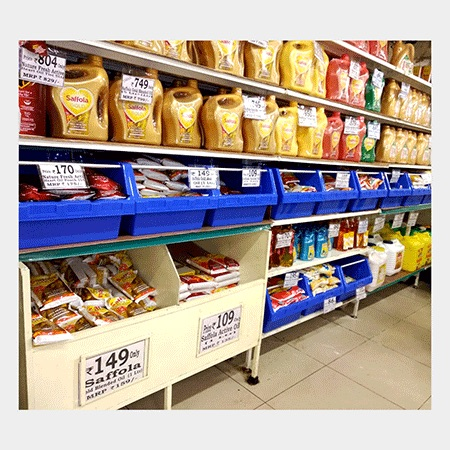saffola: (44, 52, 367, 164), (25, 246, 165, 345), (235, 26, 366, 104), (122, 152, 246, 234), (0, 125, 138, 166), (21, 167, 131, 206), (175, 249, 241, 301)
